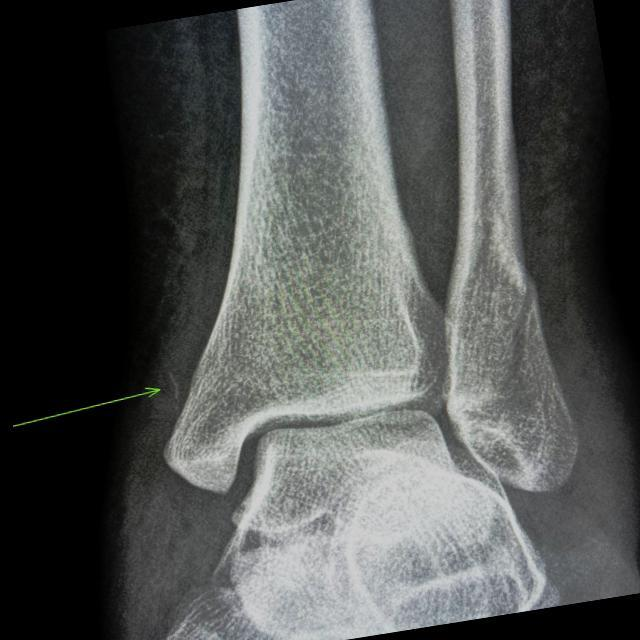Avlusion Fracture: (164, 360, 190, 421)
